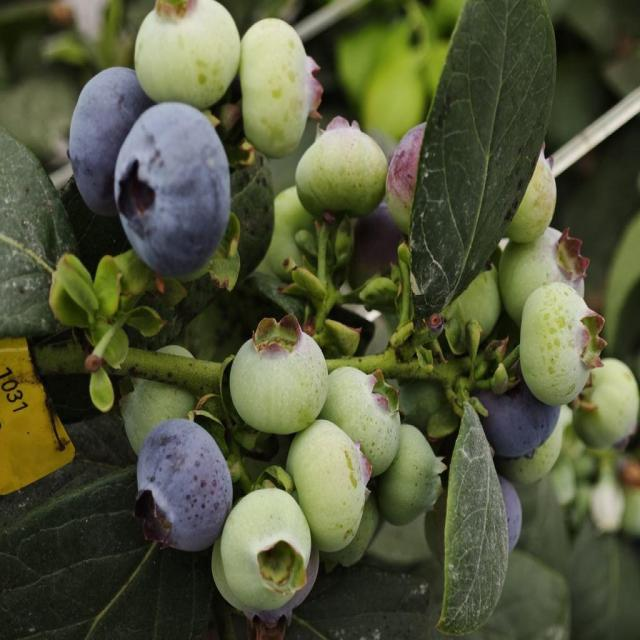RipeBlueBerry: (115, 100, 231, 282), (68, 63, 158, 219), (136, 416, 233, 550), (474, 372, 561, 462)
Semi-RipeBlueBerry: (386, 120, 437, 232)
UnripeBlueBerry: (219, 488, 313, 614), (241, 15, 321, 154), (231, 314, 327, 428), (134, 0, 238, 102), (522, 284, 607, 405), (294, 429, 370, 552), (296, 120, 387, 216), (500, 227, 589, 323), (328, 364, 402, 478), (379, 421, 446, 528), (578, 360, 640, 449), (500, 147, 556, 242)
